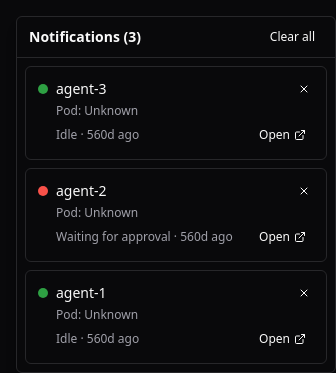
Test: NotificationPanel › dismiss notifications › removes a notification when dismiss button is clicked
The image size is (336, 373).
(page scrolled)
Expected: the heading "Notifications (3)" is shown, [29,27,141,47]
Note: Click dismiss on the second item (agent-2)
Click the button named "dismiss notification" in the row of "agent-2".
click(304, 191)  # box [294,181,314,201]
(page scrolled)
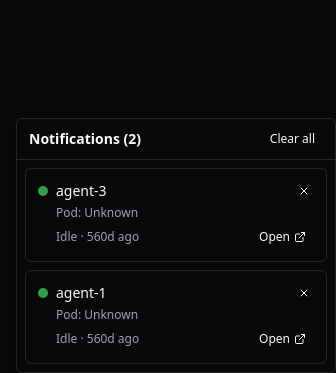
Expected: the text "agent-1" is shown, [56,283,107,302]
Expected: the heading "Notifications (2)" is shown, [29,129,141,149]
Expected: the text "agent-2" is gone
